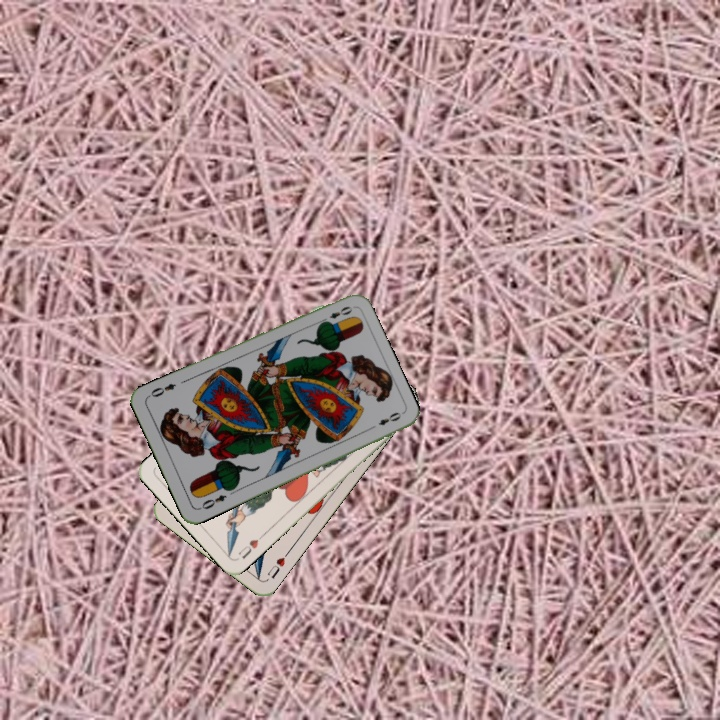EO: (317, 302, 355, 326), (195, 491, 229, 512)
HU: (235, 530, 266, 561), (263, 548, 291, 582)
